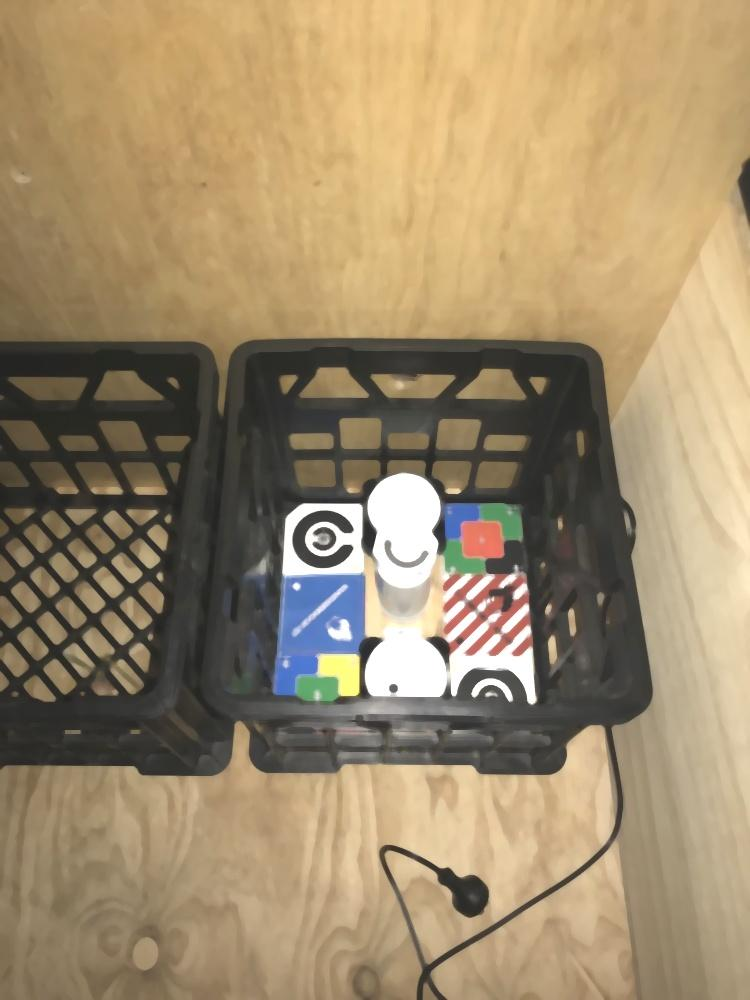dangerous-when-wet: (278, 574, 363, 652)
flammable-solid: (443, 574, 534, 657)
